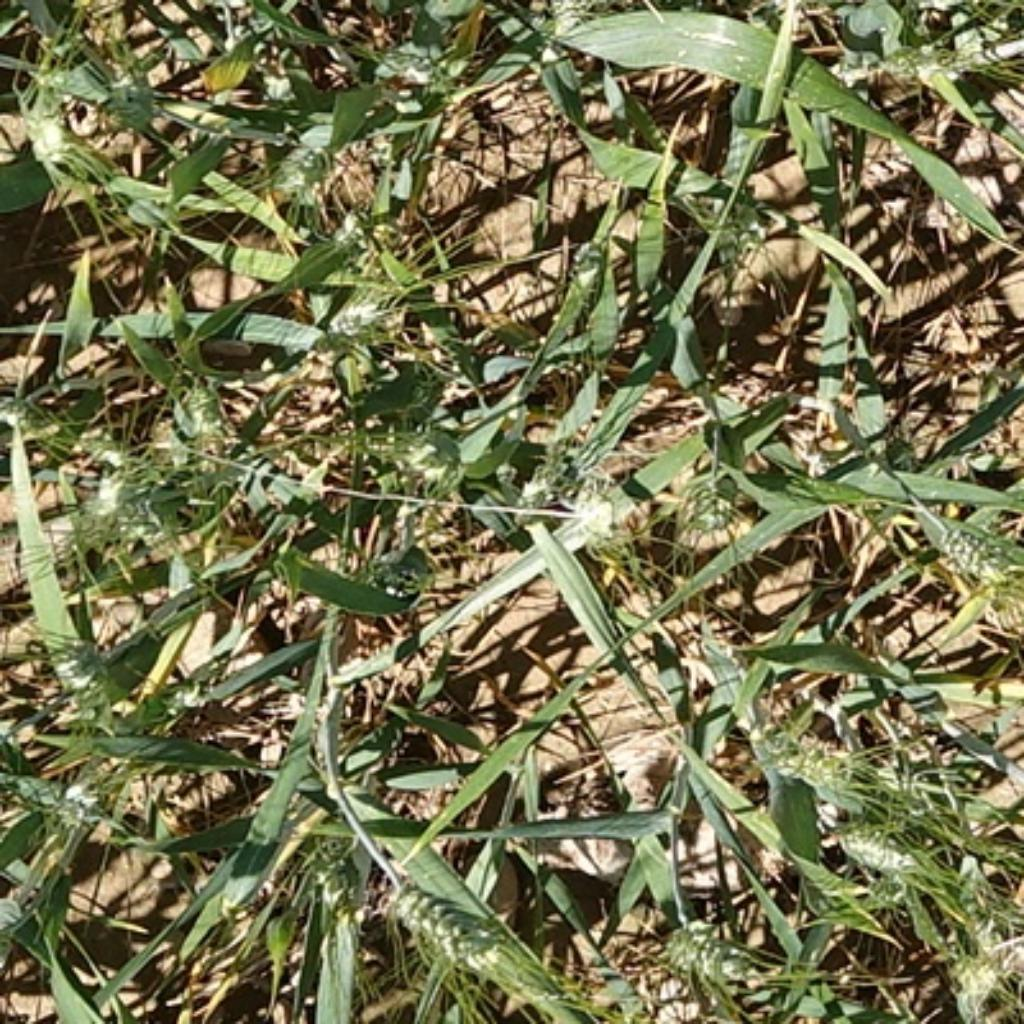0-0: (373, 852, 522, 980), (739, 704, 875, 798), (919, 501, 1024, 609), (394, 407, 499, 509), (650, 903, 765, 993), (294, 796, 371, 924), (43, 616, 138, 716), (852, 27, 972, 103), (312, 268, 417, 353), (936, 913, 1024, 1008), (684, 193, 787, 267), (552, 468, 642, 552), (250, 130, 335, 215), (74, 450, 160, 533), (153, 368, 235, 453), (12, 87, 92, 171), (829, 811, 926, 880), (670, 450, 747, 535), (33, 755, 120, 826)
